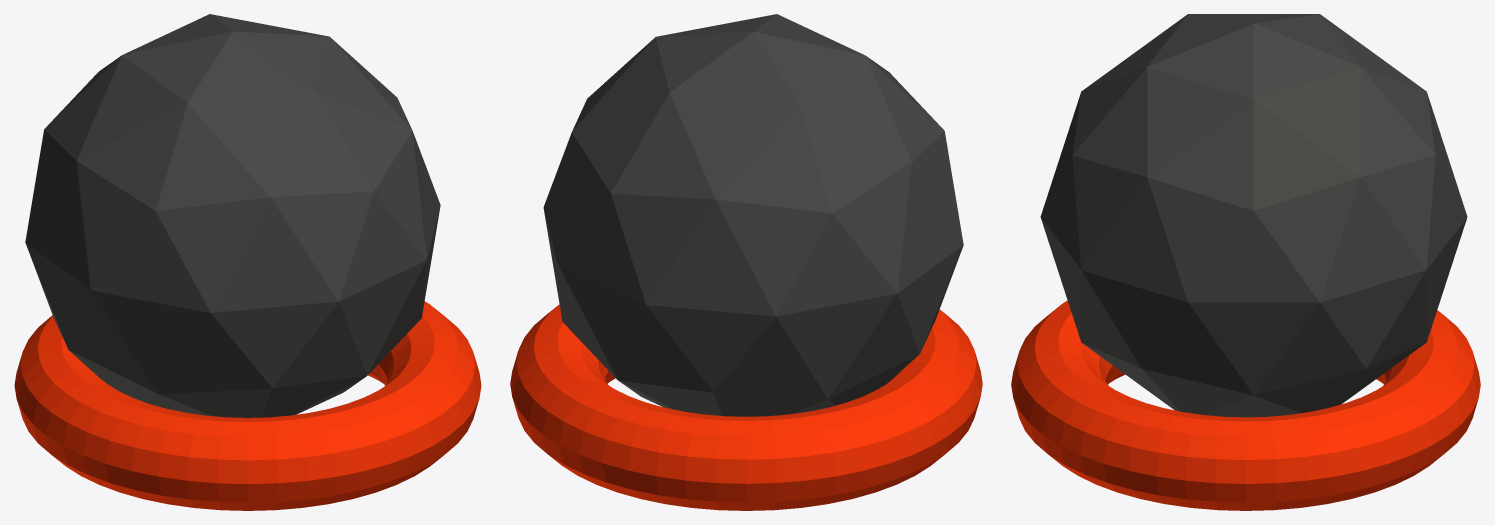
The model's file is basicRetailerSingle.glb.
The picture shows the model from 3 angles, left to right: view 1: azimuth 30°, elevation 25°; view 2: azimuth 150°, elevation 25°; view 3: azimuth 270°, elevation 25°; orthographic projection.
Parts seen in each view (by area): view 1: Icosphere.006, Torus.013; view 2: Icosphere.006, Torus.013; view 3: Icosphere.006, Torus.013.
Boxes of the visible parts, x1,y1,x2,y2 form: Icosphere.006: [25, 14, 440, 417]; Torus.013: [14, 301, 481, 510]; Icosphere.006: [543, 14, 963, 416]; Torus.013: [510, 304, 982, 510]; Icosphere.006: [1040, 14, 1467, 417]; Torus.013: [1011, 300, 1480, 510].
Bounding box in the file's own units: 3.08 × 2.88 × 3.08.
